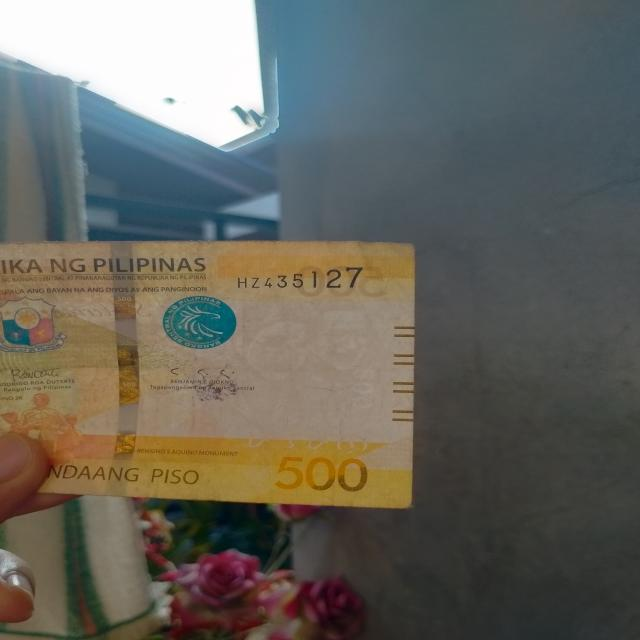security_thread: (100, 243, 140, 499)
see_through_mark: (231, 426, 372, 459)
serial_number: (230, 259, 379, 297)
value_watermark: (337, 358, 382, 423)
watermark: (216, 294, 379, 431)
